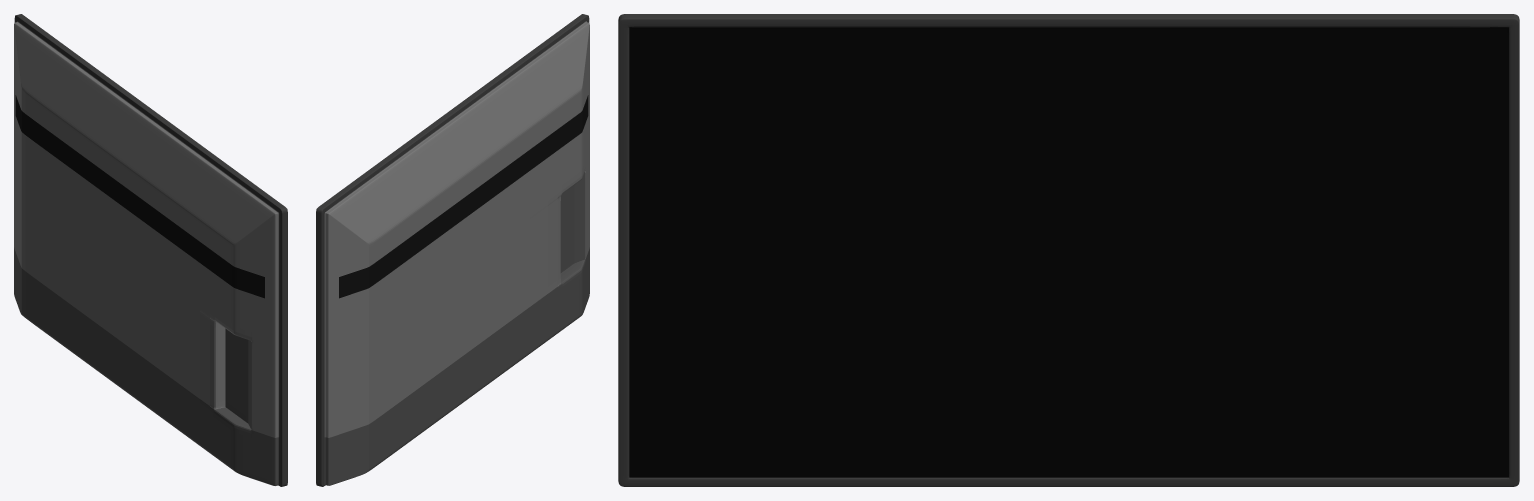
3 renders of one model, left to right at view 1: azimuth 30°, elevation 25°; view 2: azimuth 150°, elevation 25°; view 3: azimuth 270°, elevation 25°, orthographic. The views are drawn at different scales.
Parts seen in each view (by area): view 1: Plane; view 2: Plane; view 3: Plane.
Part boxes in pixels (left/top/right/bottom): Plane: left=14, top=14, right=287, bottom=486; Plane: left=316, top=14, right=589, bottom=486; Plane: left=618, top=14, right=1519, bottom=486.
Bounding box in the file's own units: 3.8 × 38.1 × 66.4.
Materials: 1 (1 with a texture image).
